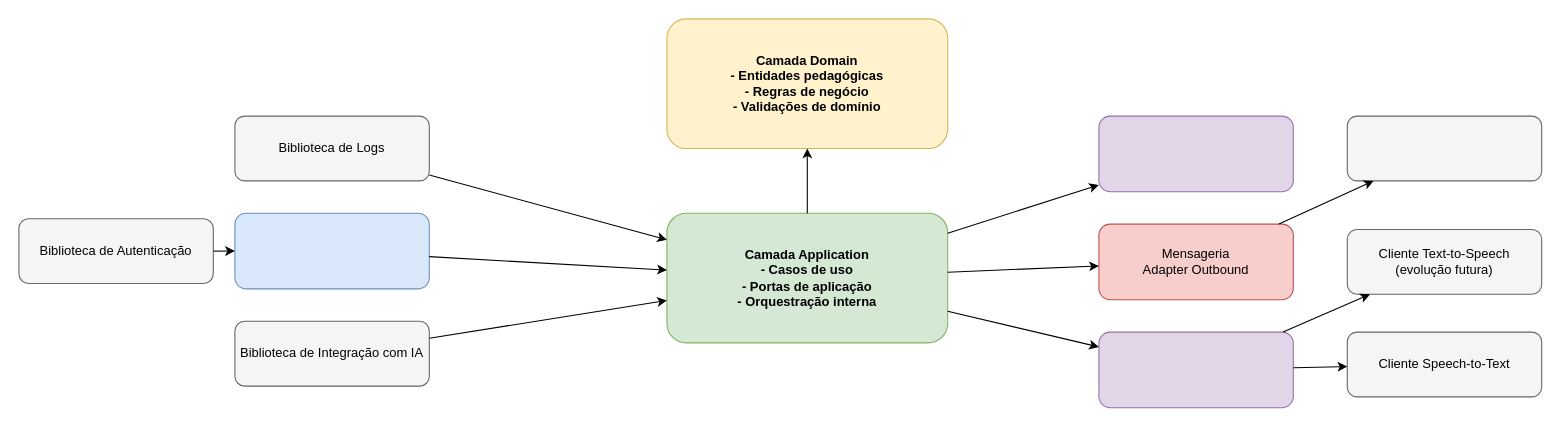
The diagram is 1561 pixels wide and 427 high, and some of its shapes have lost their labels. The box of each missing label's shape, as (x1, y1, x2, y2) in pixels:
API REST Adapter Inbound: (234, 212, 429, 289)
Cliente Modelo de Linguagem: (1346, 115, 1542, 181)
Persistência Adapter Outbound: (1098, 115, 1293, 192)
Storage Adapter Outbound: (1098, 331, 1293, 408)
